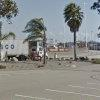Palm tree: (61, 2, 100, 63)
